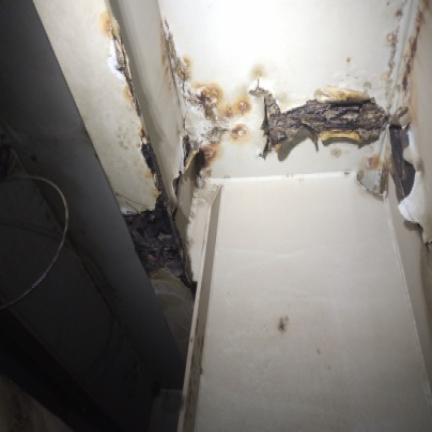karat: (251, 89, 387, 158), (390, 126, 414, 202)
